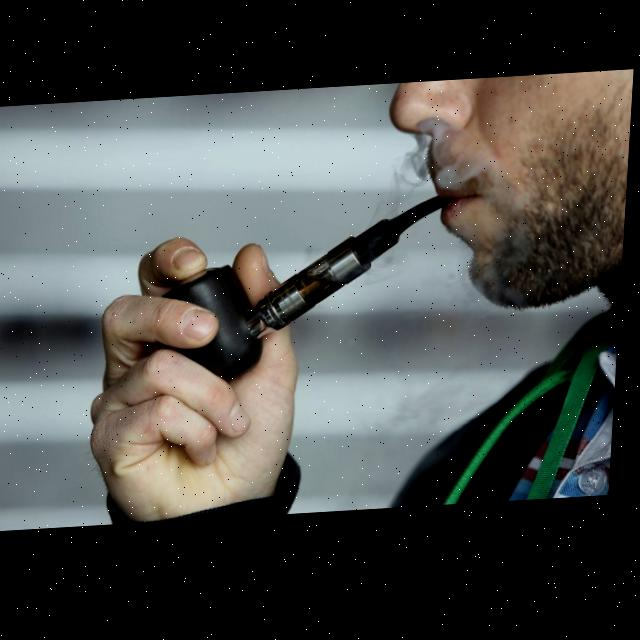vape: (251, 202, 444, 344)
